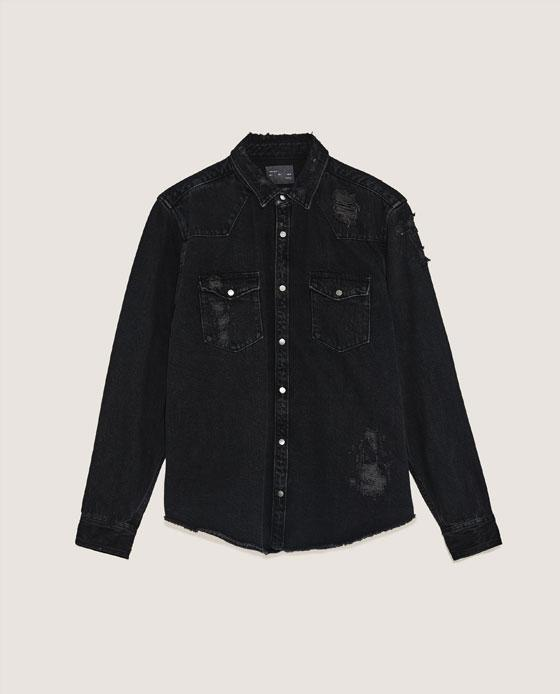teeshirt: (73, 131, 518, 579)
